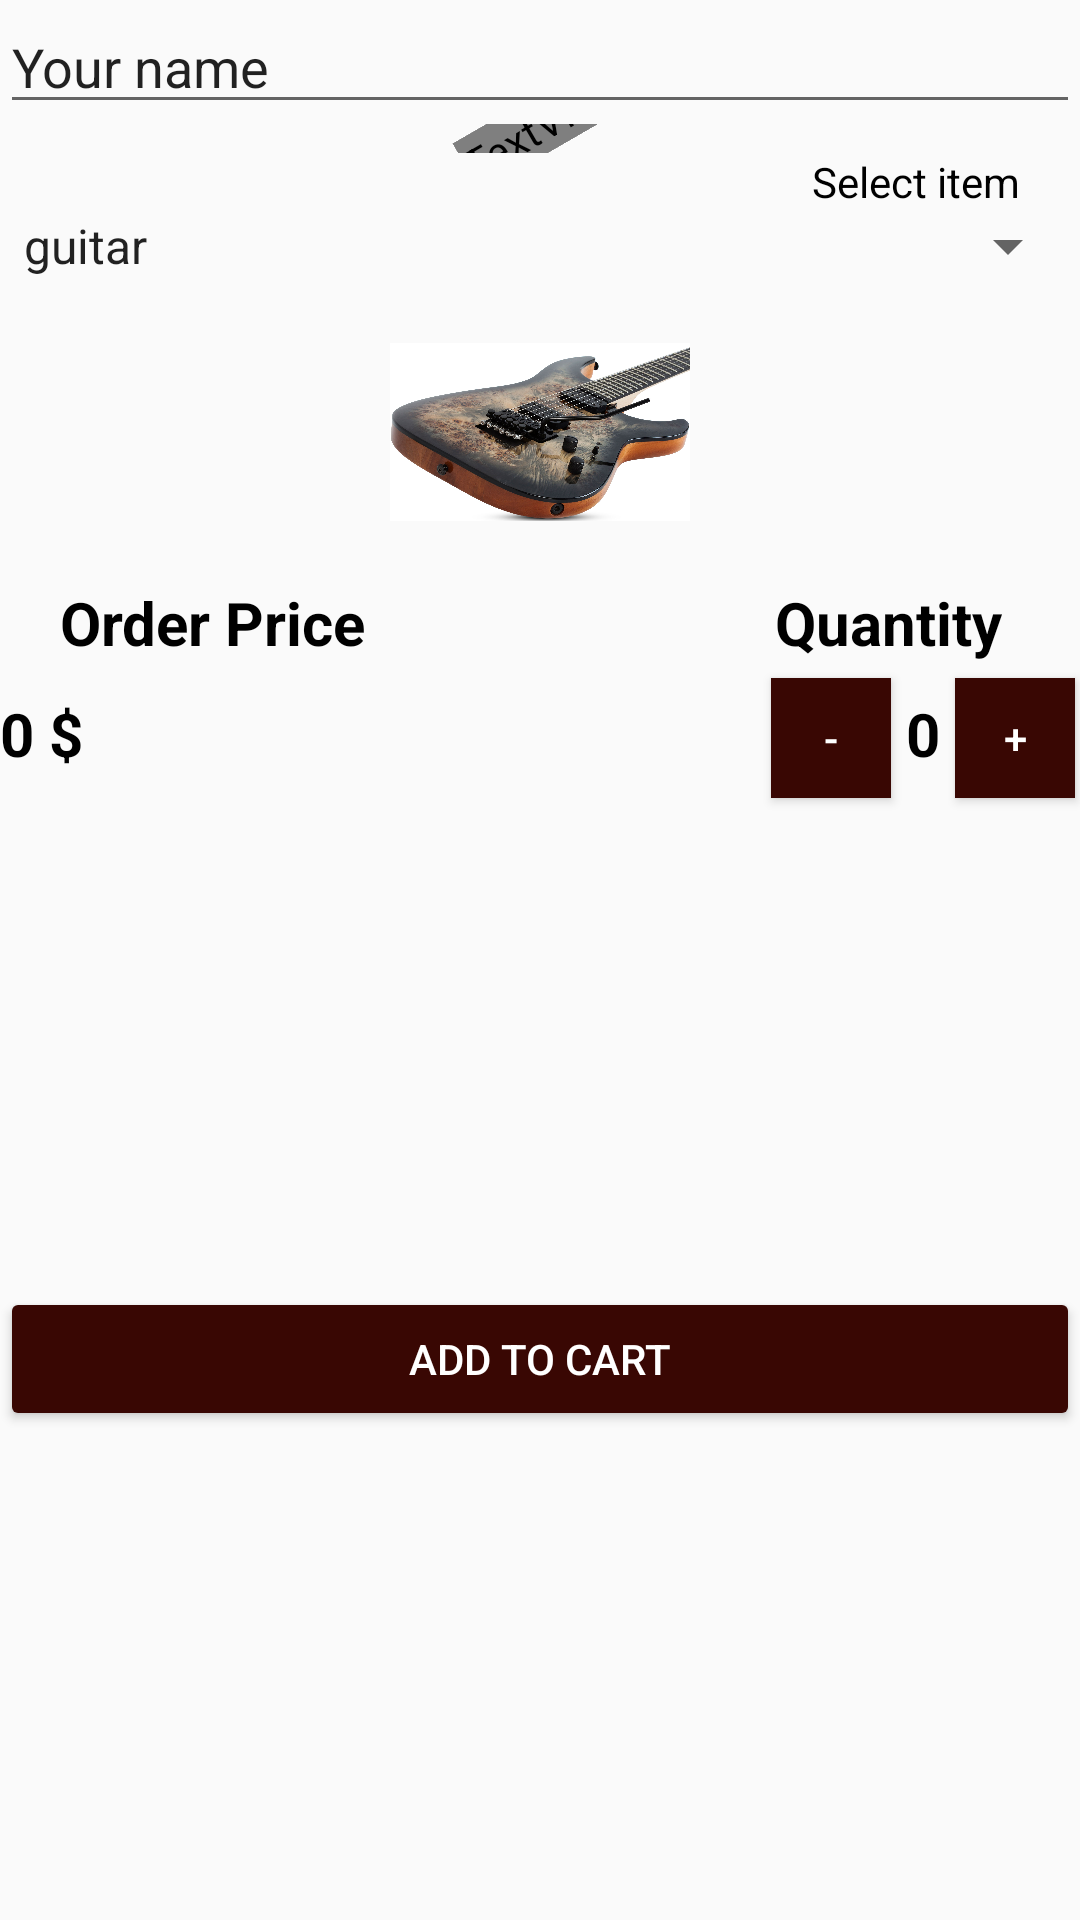

Named icons in this screenshot (1080 x 1920) and their centers, (x=x, y=y):
gitar: (x=540, y=434)
